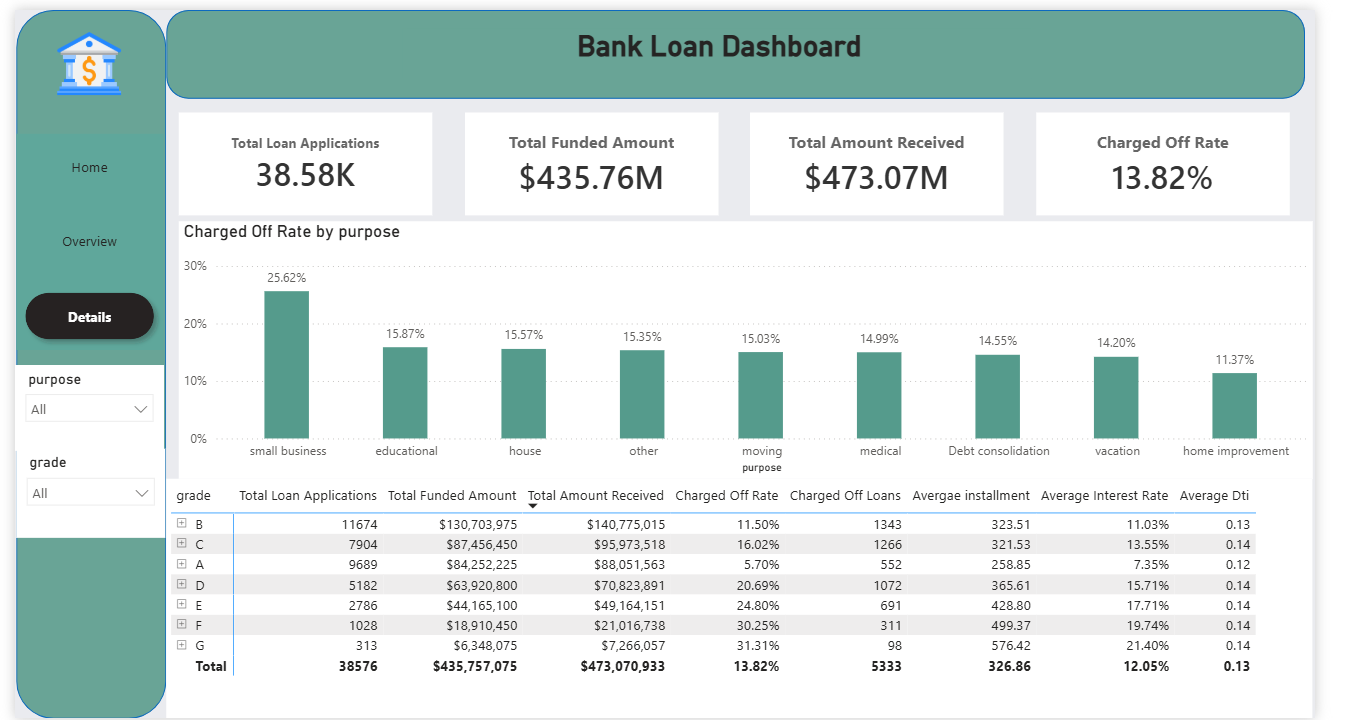

The dashboard page shown, as its layout file describes it:
{"tool":"powerbi","page":{"name":"Details","canvas":[1284,700],"ordinal":2},"visuals":[{"type":"shape","box":[1.2,0,148.1,700],"z":0},{"type":"shape","box":[149.4,0,1124.7,87.7],"z":1000},{"type":"cardVisual","fields":{"Data":["bank_loan_clean.total_loan_applications"]},"box":[161.7,101.2,250.6,101.2],"z":2000},{"type":"textbox","title":" Bank Loan Dashboard     ","box":[382.7,18.5,625.9,50.6],"z":3000},{"type":"cardVisual","fields":{"Data":["bank_loan_clean.Total Funded Amount"]},"box":[444,101.2,250.6,101.2],"z":4000},{"type":"cardVisual","fields":{"Data":["bank_loan_clean.Total Amount Recieved"]},"box":[726.3,101.2,250.6,101.2],"z":5000},{"type":"cardVisual","fields":{"Data":["bank_loan_clean.Charged Off Rate"]},"box":[1008.6,101.2,250.6,101.2],"z":6000},{"type":"image","box":[18.5,18.5,109.9,69.1],"z":7000},{"type":"pivotTable","fields":{"Rows":["bank_loan_clean.grade","bank_loan_clean.sub_grade"],"Values":["bank_loan_clean.Total Loan Applications","bank_loan_clean.Total Funded Amount","bank_loan_clean.Total Amount Recieved","bank_loan_clean.Charged Off Rate","bank_loan_clean.Charged Off Loans","bank_loan_clean.Avergae installment","bank_loan_clean.Average Interest Rate","bank_loan_clean.Average Dti"]},"box":[149.4,463,1132.1,237],"z":8000},{"type":"columnChart","fields":{"Category":["bank_loan_clean.purpose"],"Y":["bank_loan_clean.Charged Off Rate"]},"box":[161.7,208.6,1119.8,254.3],"z":9000},{"type":"pageNavigator","box":[1.2,122.2,145.7,213.6],"z":10000},{"type":"slicer","fields":{"Values":["bank_loan_clean.purpose"]},"box":[0,350.6,146.9,85.2],"z":11000},{"type":"slicer","fields":{"Values":["bank_loan_clean.grade"]},"box":[1.2,433.3,146.9,87.7],"z":12000}]}

Visuals, with their boxes on the page's 1284x700 design canvas (x1, y1, x2, y2). These are canvas units, not pixel positions in the 1367x720 screenshot, which may show the page scaled, cropped or inside an application window:
shape: (left=1, top=0, right=149, bottom=700)
shape: (left=149, top=0, right=1274, bottom=88)
cardVisual - bank_loan_clean.total_loan_applications: (left=162, top=101, right=412, bottom=202)
" Bank Loan Dashboard     " textbox: (left=383, top=18, right=1009, bottom=69)
cardVisual - bank_loan_clean.Total Funded Amount: (left=444, top=101, right=695, bottom=202)
cardVisual - bank_loan_clean.Total Amount Recieved: (left=726, top=101, right=977, bottom=202)
cardVisual - bank_loan_clean.Charged Off Rate: (left=1009, top=101, right=1259, bottom=202)
image: (left=18, top=18, right=128, bottom=88)
pivotTable - bank_loan_clean.grade x bank_loan_clean.sub_grade: (left=149, top=463, right=1282, bottom=700)
columnChart - bank_loan_clean.purpose x bank_loan_clean.Charged Off Rate: (left=162, top=209, right=1282, bottom=463)
pageNavigator: (left=1, top=122, right=147, bottom=336)
slicer - bank_loan_clean.purpose: (left=0, top=351, right=147, bottom=436)
slicer - bank_loan_clean.grade: (left=1, top=433, right=148, bottom=521)
